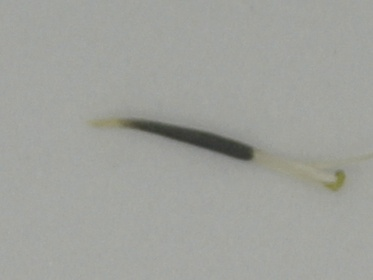เมล็ดดีเรียวยาว: (87, 118, 373, 191)
